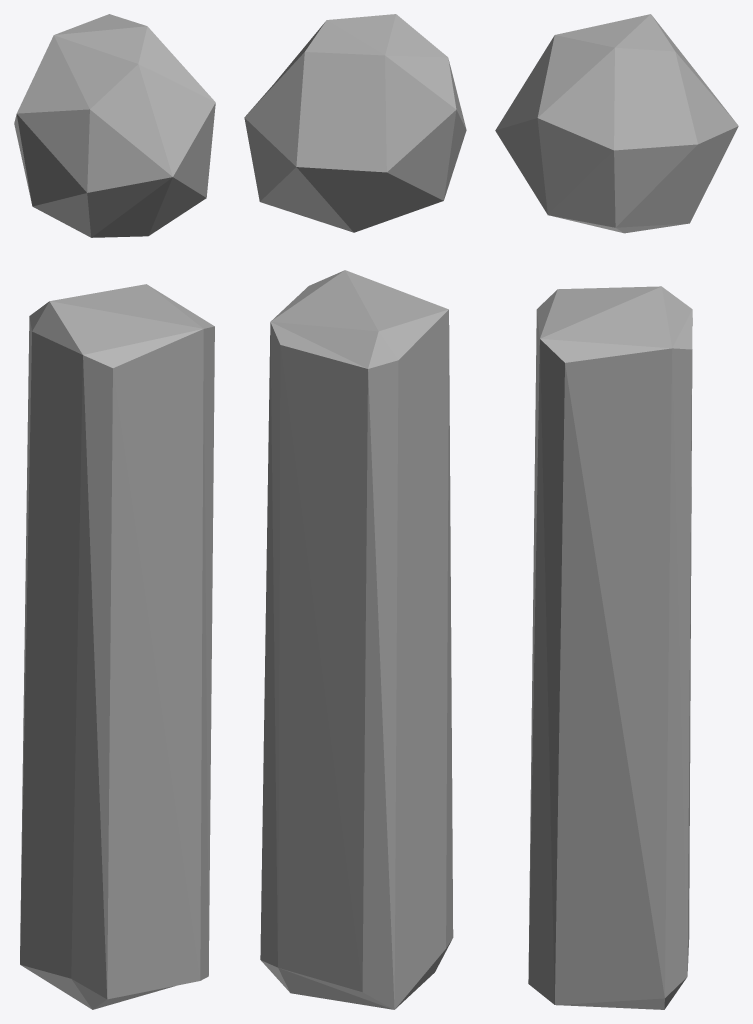
Rendered from infoIcon.glb.
3 renders of one model, left to right at view 1: azimuth 30°, elevation 25°; view 2: azimuth 150°, elevation 25°; view 3: azimuth 270°, elevation 25°, orthographic.
Parts seen in each view (by area): view 1: infoIcon; view 2: infoIcon; view 3: infoIcon.
Part boxes in pixels (x1,y1,x2,y2): infoIcon: (14,14,215,1009); infoIcon: (244,14,466,1009); infoIcon: (495,14,738,1009).
Size of the model in its own units: 4.22 by 21.02 by 4.85.
1 material, 1 textured.
